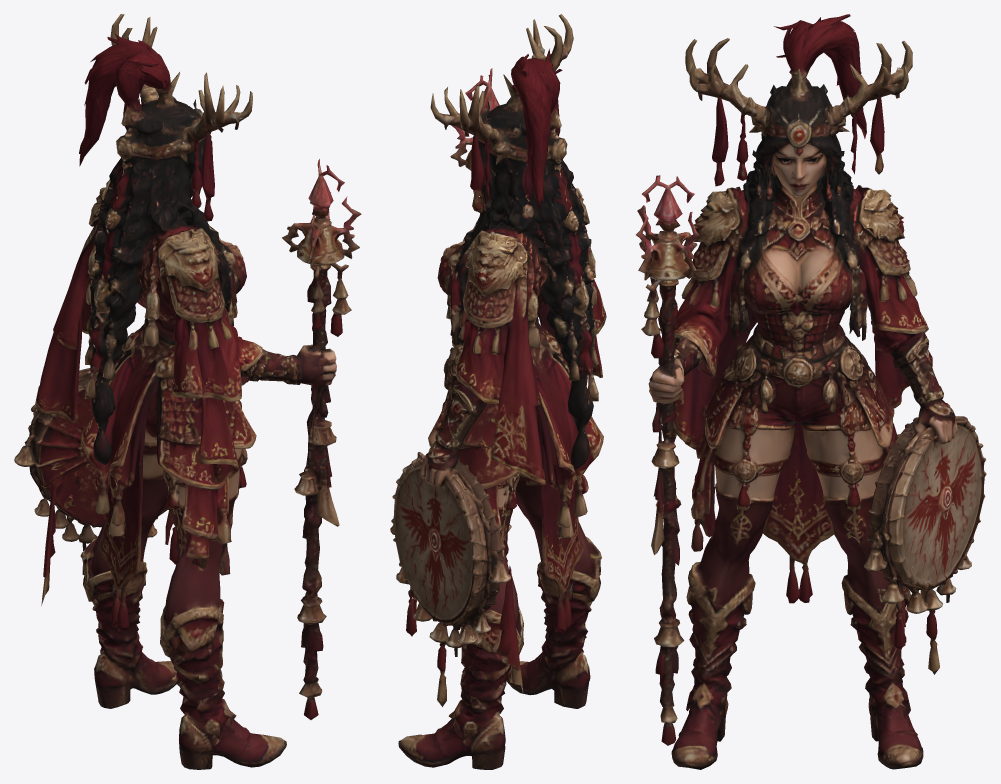
The model's file is drumcaller-EmberKhan-tripo.glb.
The picture shows the model from 3 angles, left to right: view 1: azimuth 30°, elevation 25°; view 2: azimuth 150°, elevation 25°; view 3: azimuth 270°, elevation 25°; orthographic projection. The views are drawn at different scales.
Parts seen in each view (by area): view 1: tripo_node_404fc016-4c18-40c3-9270-62050c6c0832; view 2: tripo_node_404fc016-4c18-40c3-9270-62050c6c0832; view 3: tripo_node_404fc016-4c18-40c3-9270-62050c6c0832.
Part boxes in pixels (x1=…): tripo_node_404fc016-4c18-40c3-9270-62050c6c0832: x1=14, y1=14, x2=361, y2=769; tripo_node_404fc016-4c18-40c3-9270-62050c6c0832: x1=390, y1=14, x2=606, y2=769; tripo_node_404fc016-4c18-40c3-9270-62050c6c0832: x1=636, y1=14, x2=986, y2=769.
Size of the model in its own units: 0.3017 by 1 by 0.4451.
1 material, 1 textured.
